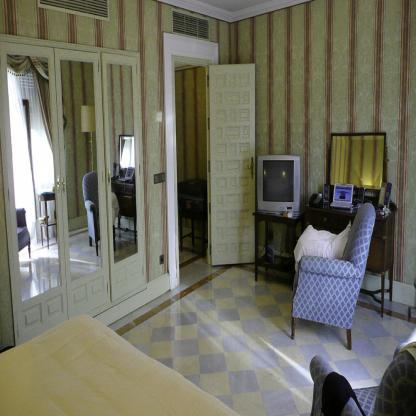door: (207, 66, 256, 266)
hinged: (206, 76, 210, 88), (209, 243, 212, 255), (208, 118, 210, 130), (209, 161, 211, 173), (209, 203, 211, 214)
lever: (247, 161, 253, 171)
